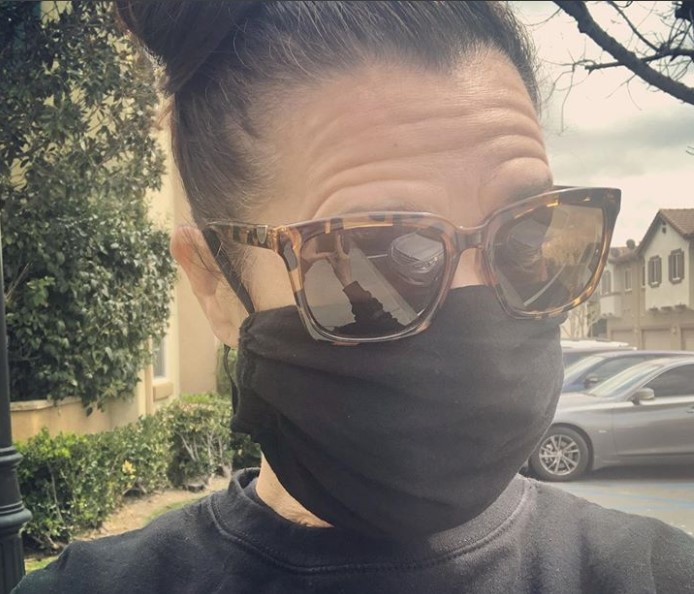face_with_mask: (165, 3, 620, 536)
